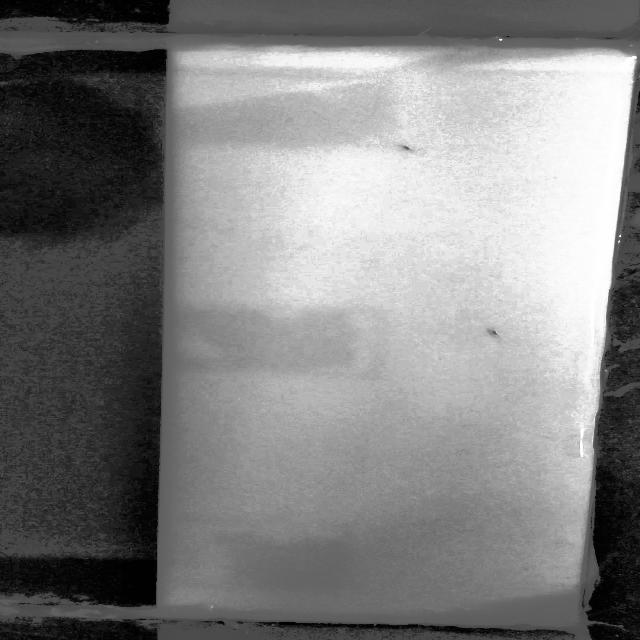shrimp: (480, 325, 506, 339), (398, 142, 418, 154)
